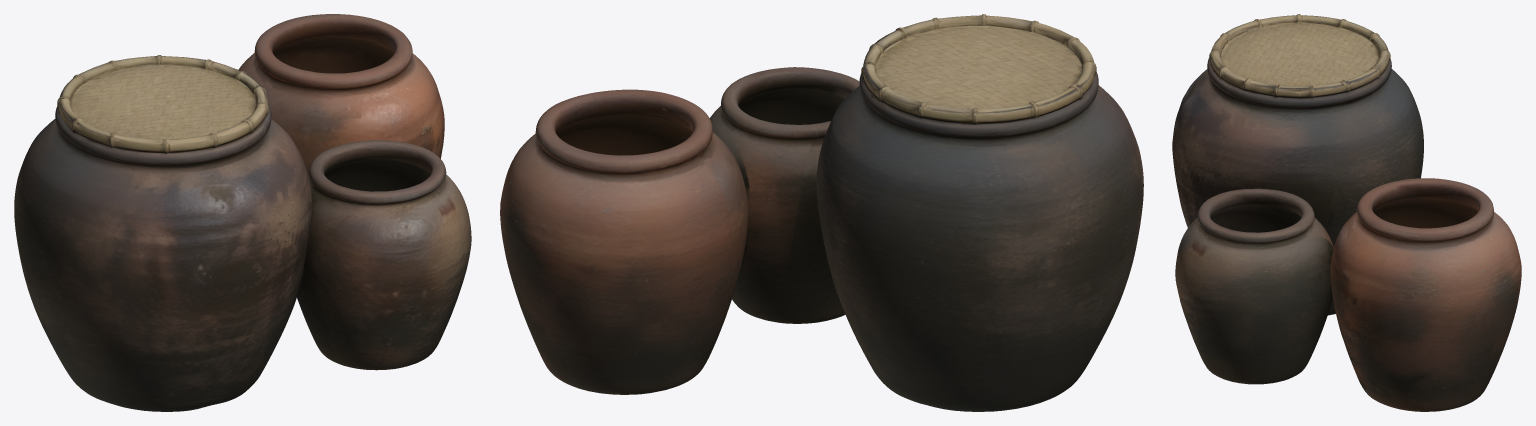
Rendered from SM_ClayJarSet.fbx.
The picture shows the model from 3 angles, left to right: view 1: azimuth 30°, elevation 25°; view 2: azimuth 150°, elevation 25°; view 3: azimuth 270°, elevation 25°; orthographic projection. The views are drawn at different scales.
Visible parts, largest first — view 1: Mesh_0; view 2: Mesh_0; view 3: Mesh_0.
Boxes of the visible parts, x1,y1,x2,y2 form: Mesh_0: (14,14,471,411); Mesh_0: (500,14,1143,411); Mesh_0: (1172,14,1521,411).
Size of the model in its own units: 110 by 61.79 by 83.23.
Materials: 1 (1 with a texture image).
